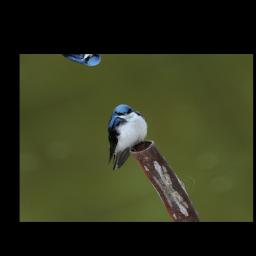Swallow: (80, 99, 166, 172)
